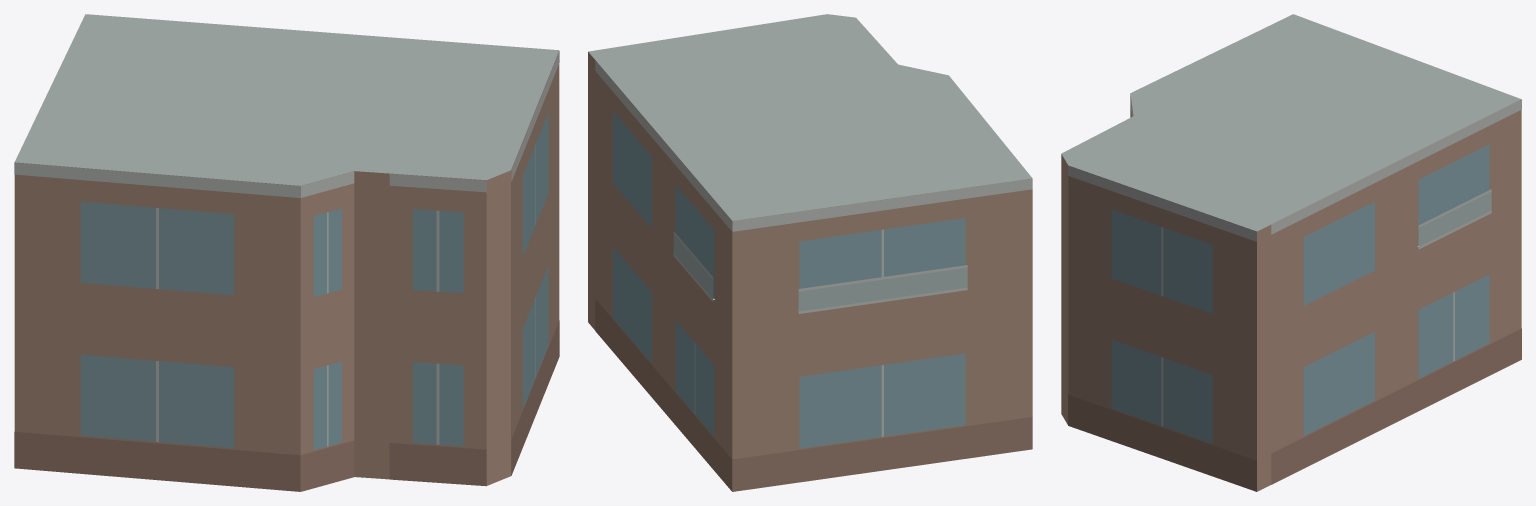
The model's file is survey-upis-32568572.glb.
3 renders of one model, left to right at view 1: azimuth 30°, elevation 25°; view 2: azimuth 150°, elevation 25°; view 3: azimuth 270°, elevation 25°, orthographic. The views are drawn at different scales.
Parts seen in each view (by area): view 1: survey-upis-32568572.tmp; view 2: survey-upis-32568572.tmp; view 3: survey-upis-32568572.tmp.
Part boxes in pixels (bbox=[...]): survey-upis-32568572.tmp: bbox=[14, 14, 559, 491]; survey-upis-32568572.tmp: bbox=[588, 14, 1032, 491]; survey-upis-32568572.tmp: bbox=[1061, 14, 1521, 491].
Size of the model in its own units: 10.94 by 6.1 by 9.79.
